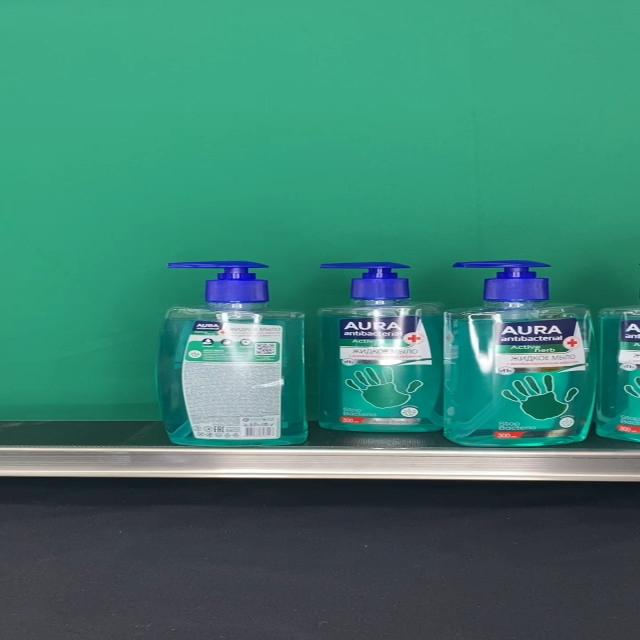Bottle: (442, 261, 599, 446), (156, 261, 308, 447), (317, 262, 447, 432)
Cap: (166, 261, 270, 303), (451, 261, 551, 303), (319, 261, 414, 299)
